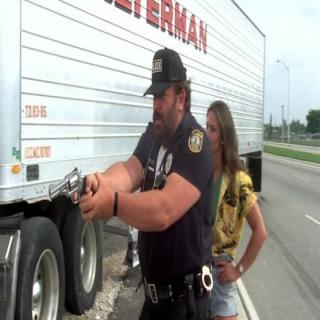gun: (45, 159, 96, 224)
